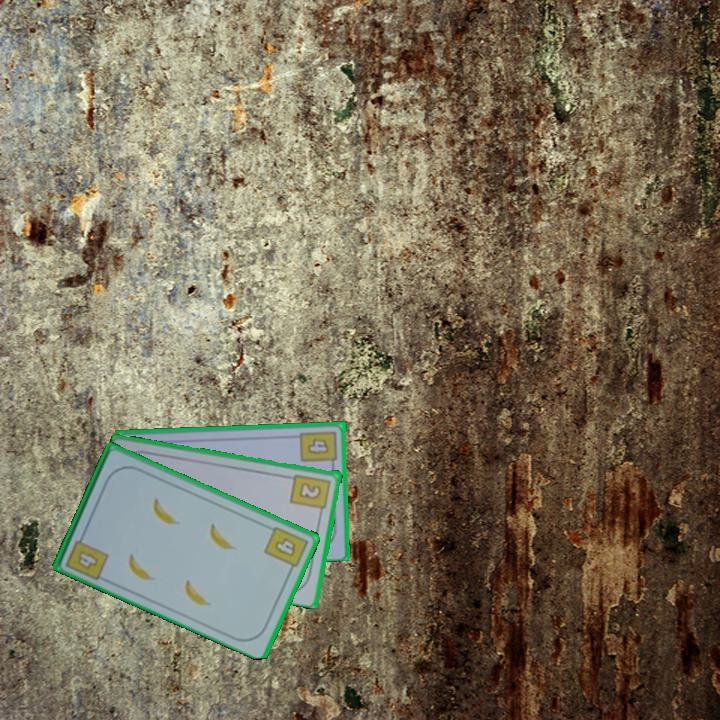2b: (288, 470, 334, 517)
4b: (260, 522, 311, 575), (62, 529, 111, 583), (297, 427, 340, 470)
